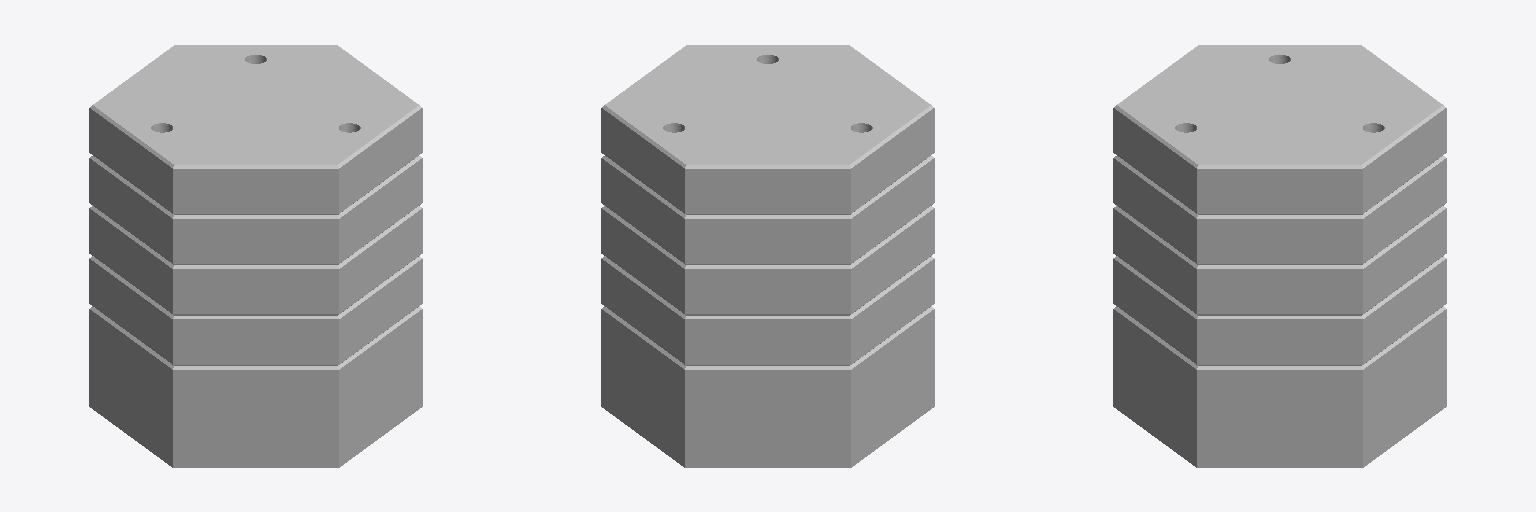
The model's file is lvl5B.obj.
3 views of the same model, side by side, from view 1: azimuth 30°, elevation 25°; view 2: azimuth 150°, elevation 25°; view 3: azimuth 270°, elevation 25° (orthographic).
Visible parts, largest first — view 1: Lvl5B-3_(Mono-NoMags); view 2: Lvl5B-3_(Mono-NoMags); view 3: Lvl5B-3_(Mono-NoMags).
Boxes of the visible parts, <box> form: Lvl5B-3_(Mono-NoMags): <box>89,45,422,467</box>; Lvl5B-3_(Mono-NoMags): <box>601,45,934,467</box>; Lvl5B-3_(Mono-NoMags): <box>1113,45,1446,467</box>.
Bounding box in the file's own units: 3.13 × 3.62 × 3.62.